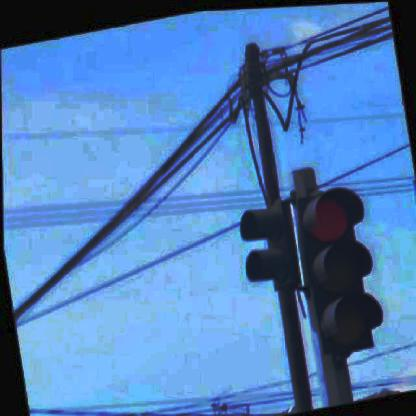Traffic Light -Red-: (294, 182, 388, 359)
